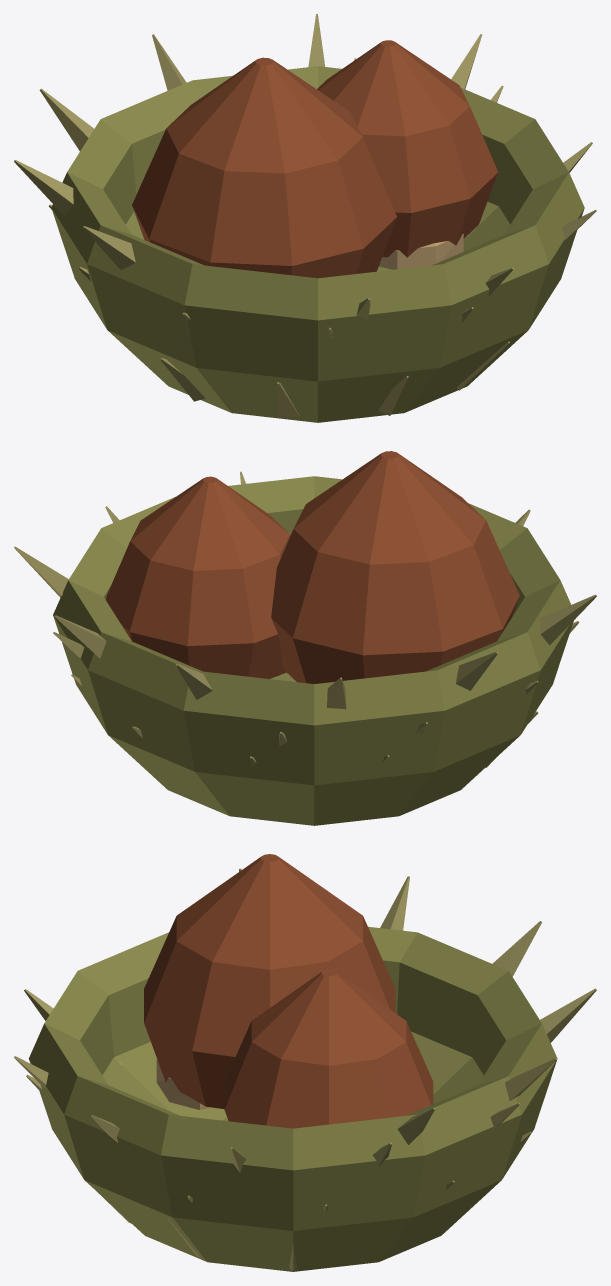
File: chestnut.glb
3 renders of one model, top to bottom at view 1: azimuth 30°, elevation 25°; view 2: azimuth 150°, elevation 25°; view 3: azimuth 270°, elevation 25°, orthographic. The views are drawn at different scales.
Parts seen in each view (by area): view 1: item; view 2: item; view 3: item.
Boxes of the visible parts, left/top/right/bottom form: item: left=14, top=14, right=596, bottom=422; item: left=14, top=451, right=596, bottom=825; item: left=14, top=854, right=596, bottom=1271.
Bounding box in the file's own units: 0.3722 × 0.25 × 0.3748.
